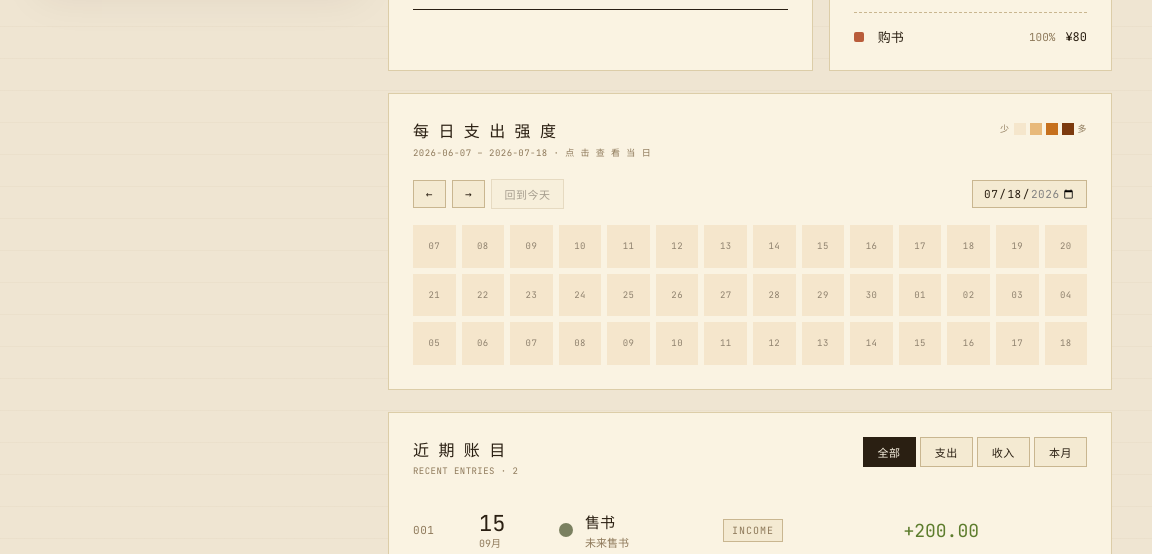
LedgerFeature › 四十二日窗口能到达未来账目边界并回到今天
The width and height of the screenshot is (1152, 554).
(page scrolled)
expect the date field holds "2026-07-18": met, box x1=972 y1=180 x2=1087 y2=208
Click the button named "下一段": (469, 194) x1=452 y1=180 x2=485 y2=208
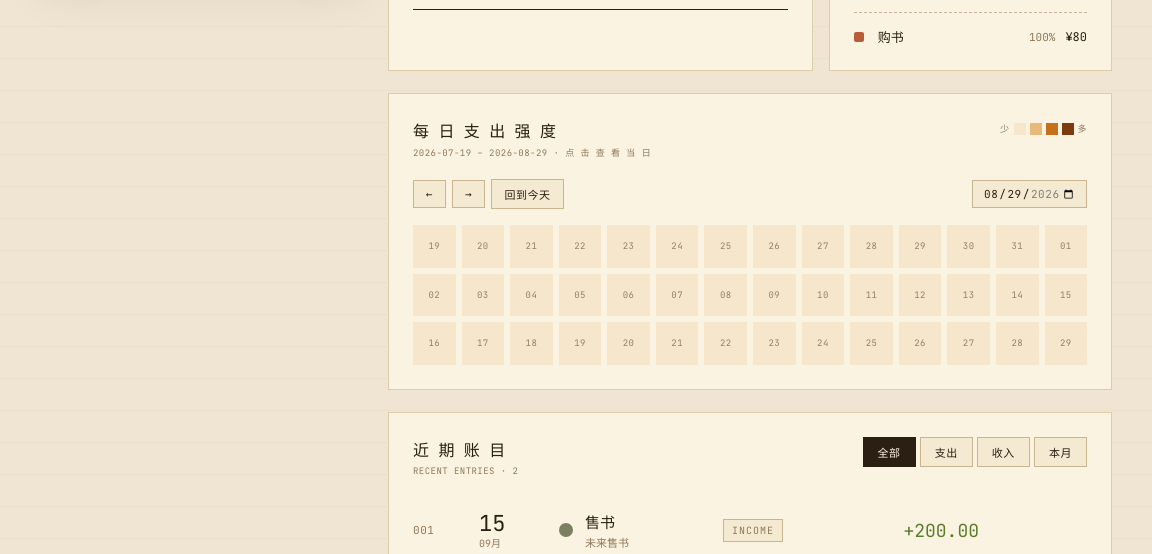
expect the date field holds "2026-08-29": met, box x1=972 y1=180 x2=1087 y2=208
Click the button named "下一段": (469, 194) x1=452 y1=180 x2=485 y2=208
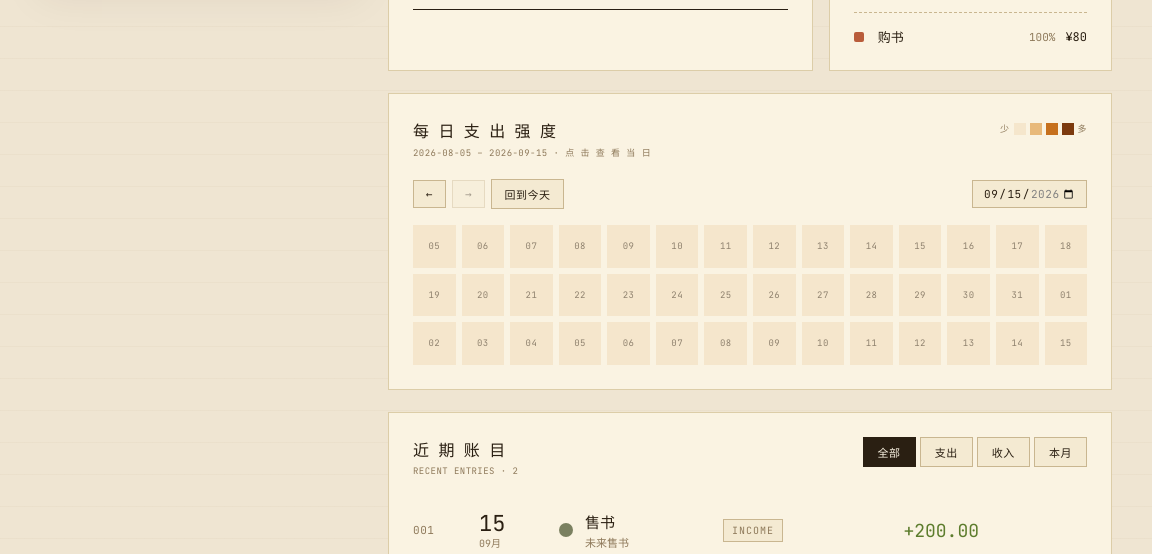
expect the date field holds "2026-09-15": met, box x1=972 y1=180 x2=1087 y2=208
Click the button "回到今天": (528, 194) x1=491 y1=179 x2=564 y2=209
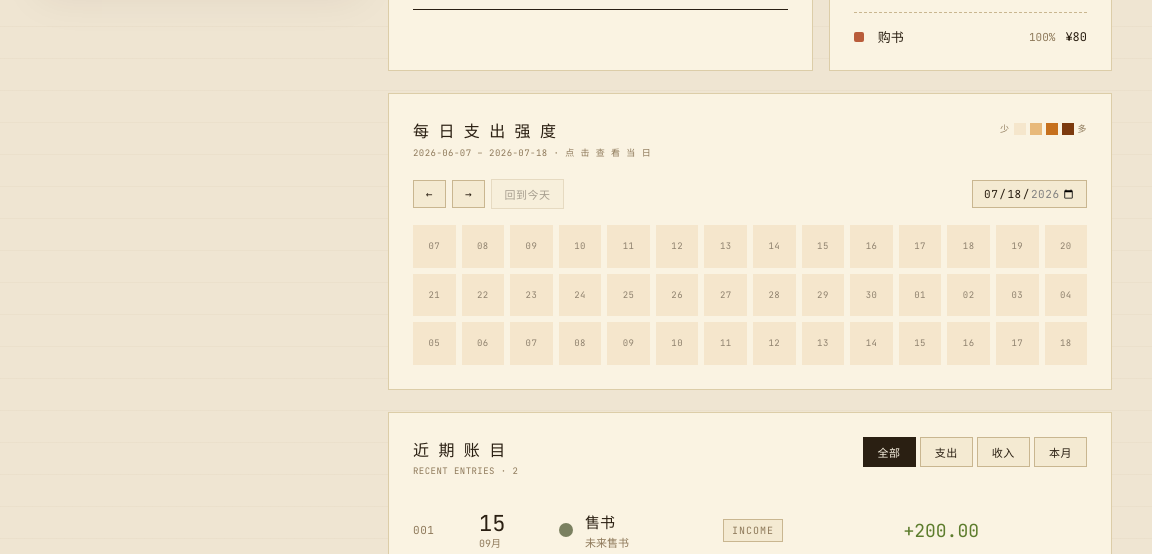
expect the date field holds "2026-07-18": met, box x1=972 y1=180 x2=1087 y2=208
